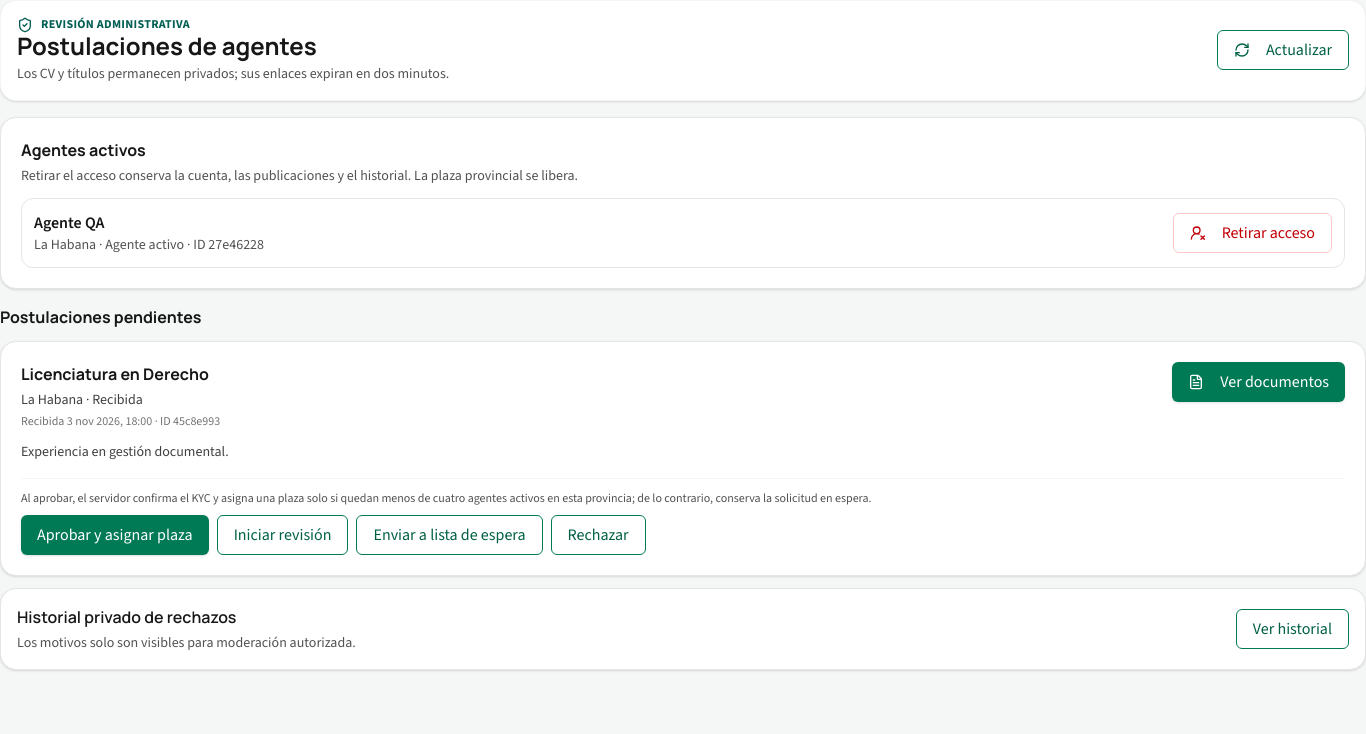
Test case: AgentApplicationsModerationTab › requires a reason and revokes access without presenting account deletion
The width and height of the screenshot is (1366, 734).
Expected: the heading "Agente QA" is shown, [34,212,104,234]
Click the button "Retirar acceso" at (1252, 233), box [1173,213,1332,253]
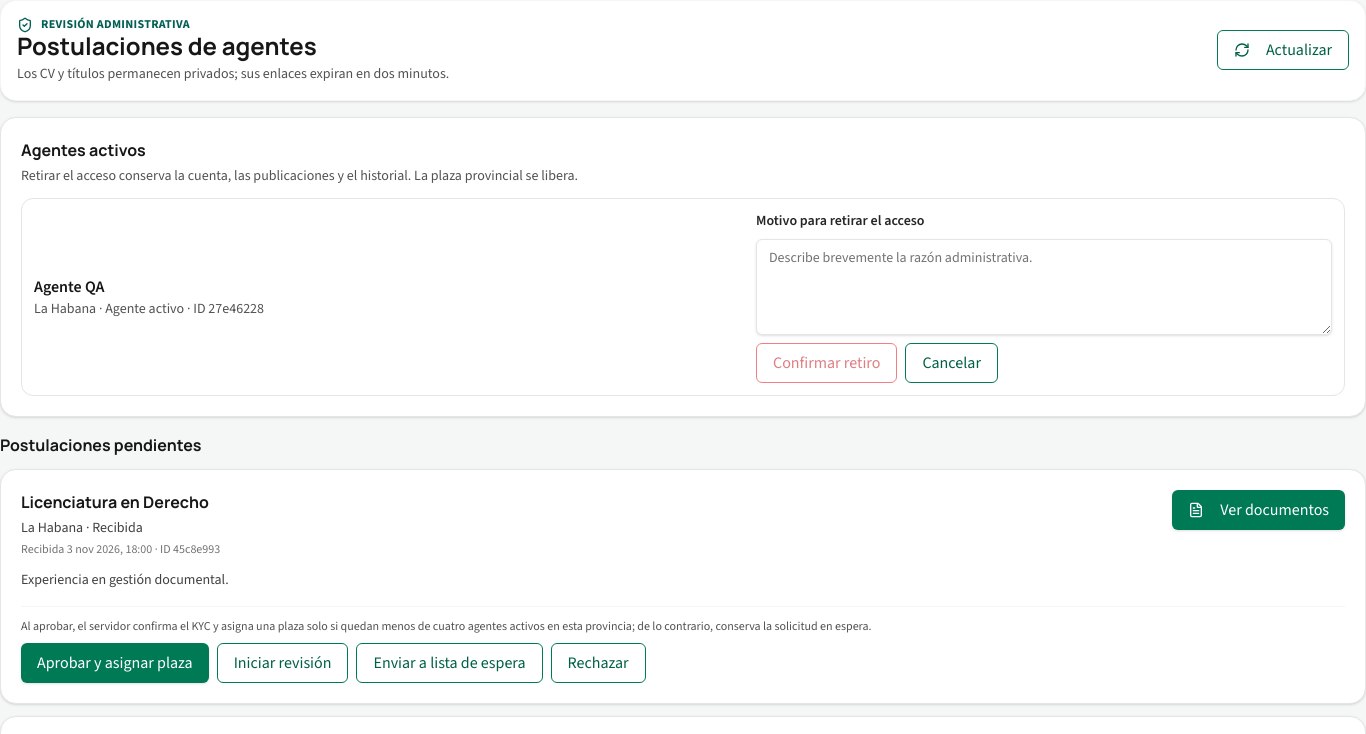
Expected: the button "Confirmar retiro" is disabled, [756,343,897,383]
Type "Incumplimiento de las reglas." into the text box labelled "Motivo para retirar el acceso" at (1044, 287), box [756,239,1332,335]
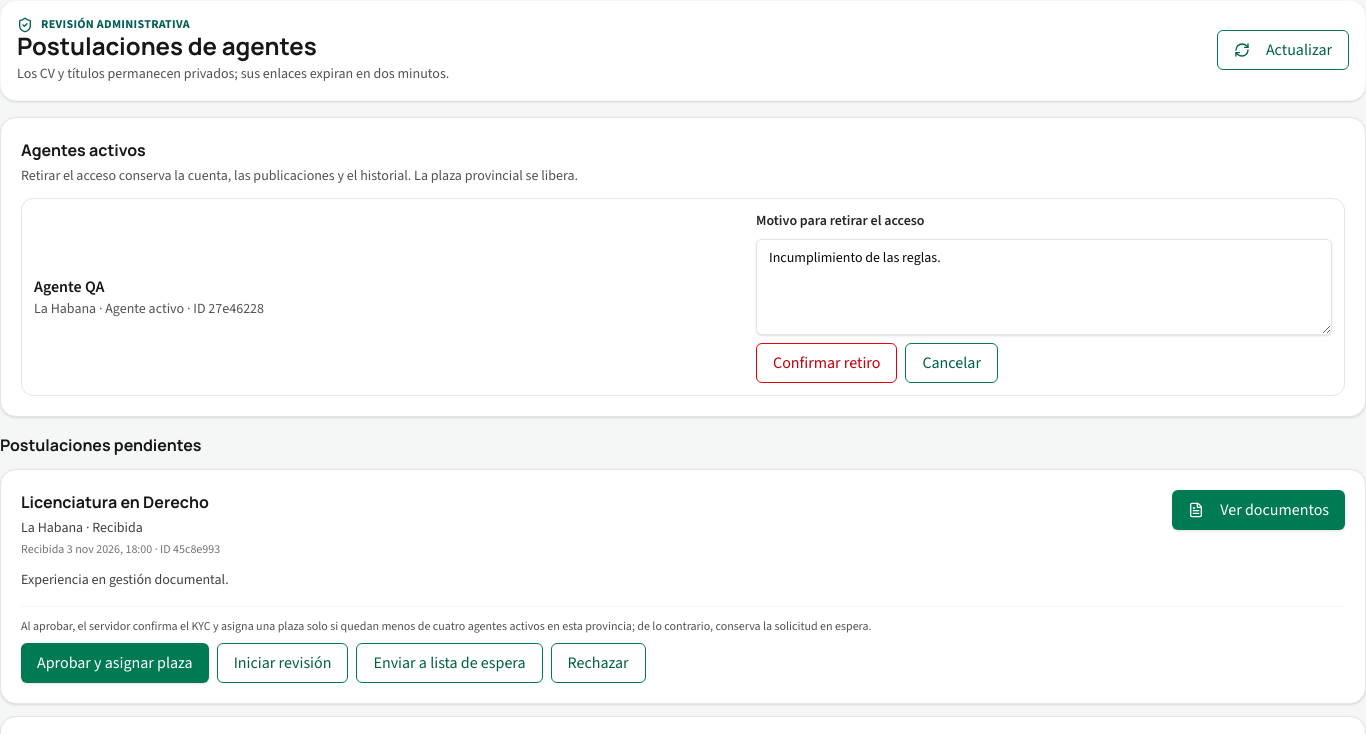
Click the button "Confirmar retiro" at (827, 363), box [756,343,897,383]
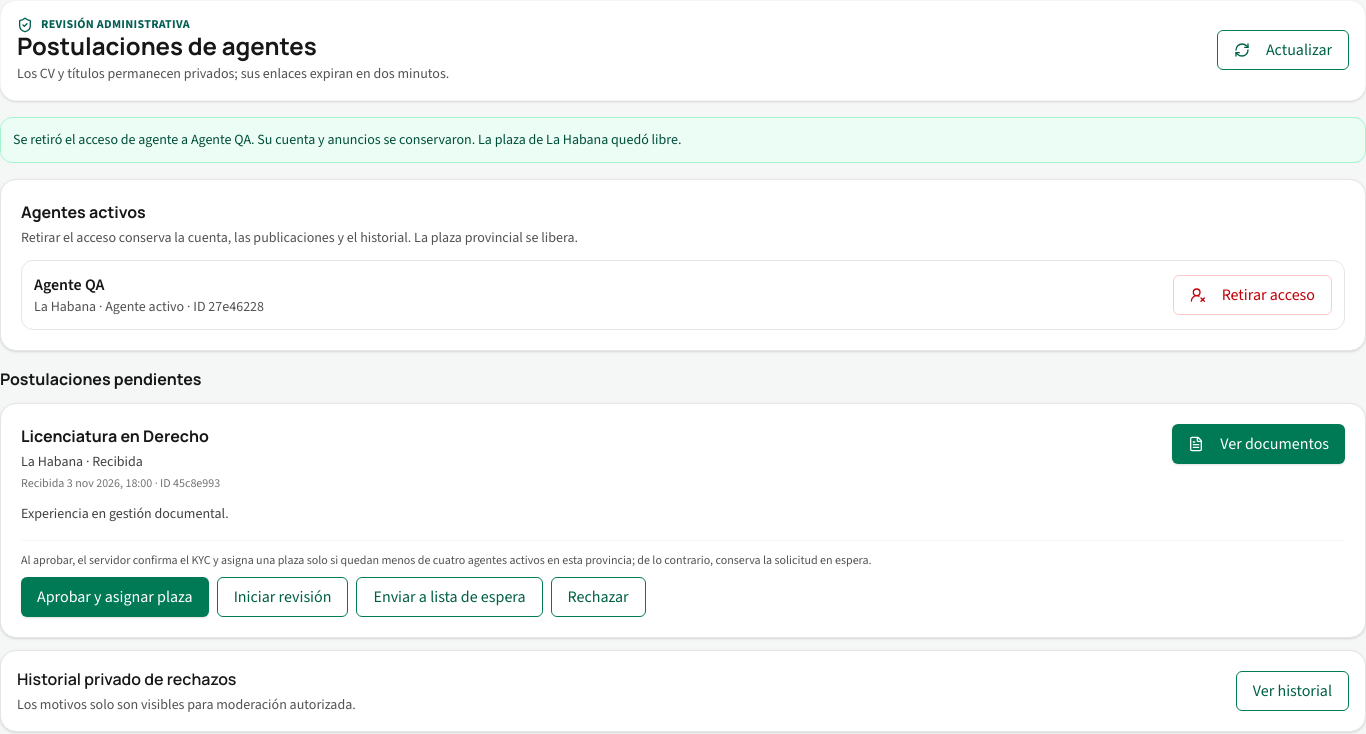
Expected: the message shows "cuenta y anuncios se conservaron", [13,130,682,150]
